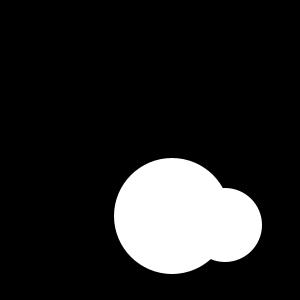rectangle: (114, 158, 230, 274), (188, 188, 262, 262)
